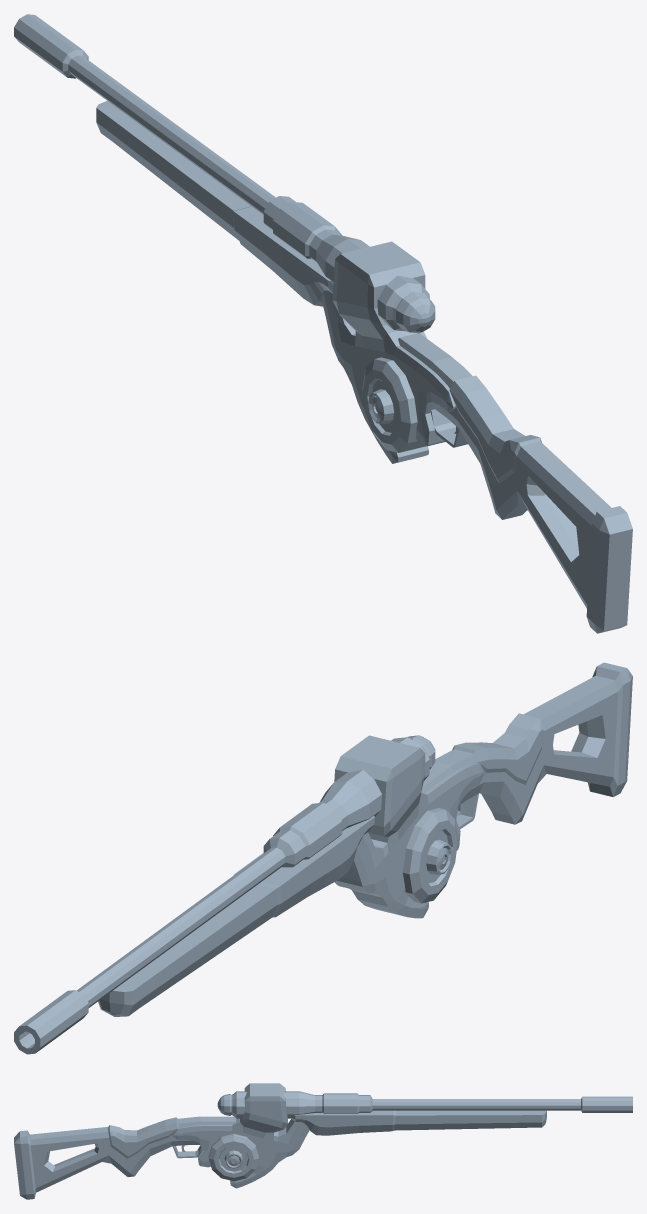
File: sniper-rifle.glb
The picture shows the model from 3 angles, top to bottom: view 1: azimuth 30°, elevation 25°; view 2: azimuth 150°, elevation 25°; view 3: azimuth 270°, elevation 25°; orthographic projection. The views are drawn at different scales.
Visible parts, largest first — view 1: SniperRifle_Cube; view 2: SniperRifle_Cube; view 3: SniperRifle_Cube.
Part boxes in pixels (x1,y1,x2,y2): SniperRifle_Cube: (14, 14, 632, 633); SniperRifle_Cube: (14, 662, 632, 1054); SniperRifle_Cube: (14, 1083, 632, 1199).
Size of the model in its own units: 0.1215 by 0.3475 by 1.82.
